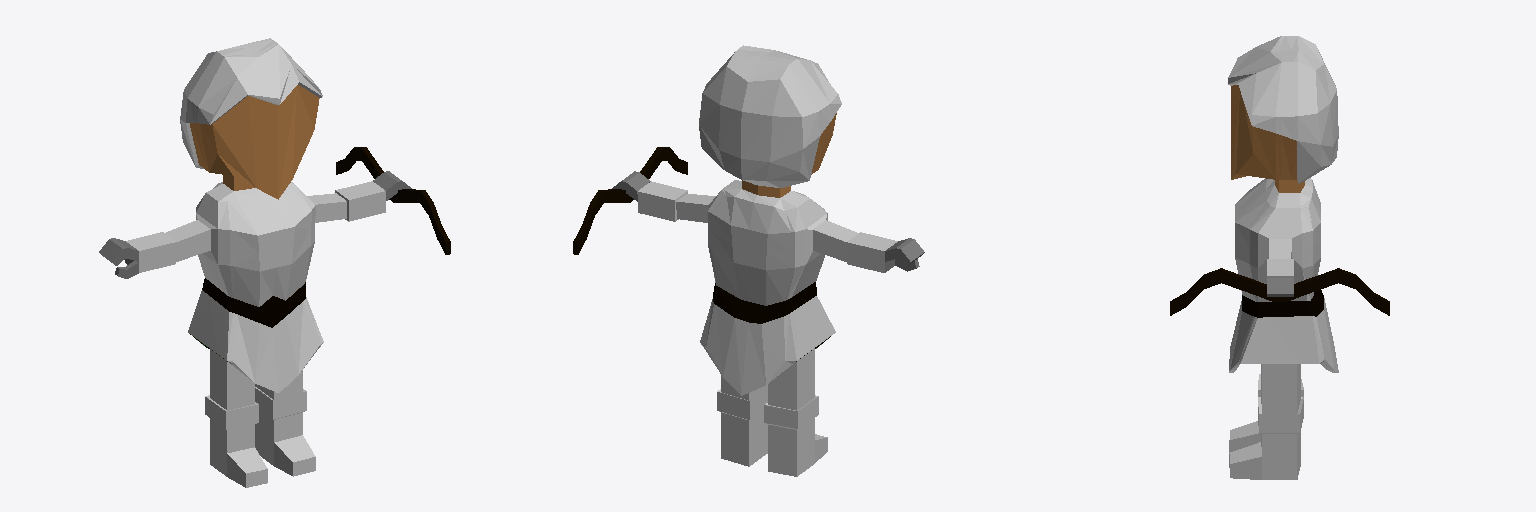
Rendered from Archer_Model.obj.
3 renders of one model, left to right at view 1: azimuth 30°, elevation 25°; view 2: azimuth 150°, elevation 25°; view 3: azimuth 270°, elevation 25°, orthographic.
Visible parts, largest first — view 1: pCube9; view 2: pCube9; view 3: pCube9.
Part boxes in pixels (left/top/right/bottom): pCube9: left=99, top=38, right=450, bottom=487; pCube9: left=573, top=45, right=924, bottom=476; pCube9: left=1170, top=36, right=1389, bottom=479.
Bounding box in the file's own units: 64.97 × 84.99 × 41.21.